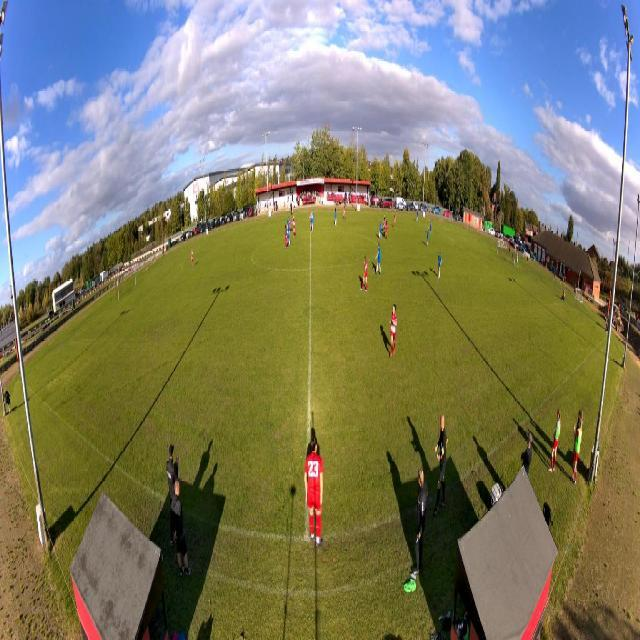ball: (192, 251, 193, 255)
player: (304, 433, 325, 538), (389, 302, 398, 359), (360, 255, 369, 294), (375, 241, 382, 277), (438, 251, 443, 280), (286, 224, 291, 248), (284, 223, 288, 250), (310, 209, 314, 233), (292, 214, 296, 238), (379, 219, 383, 240), (383, 217, 387, 237), (385, 219, 389, 239), (342, 204, 347, 220), (287, 216, 291, 236), (190, 249, 194, 268), (427, 224, 430, 248), (383, 214, 387, 232), (289, 218, 294, 232), (309, 210, 312, 231), (334, 207, 337, 227), (430, 218, 433, 236), (516, 251, 519, 269), (394, 212, 397, 229), (416, 208, 419, 223)
